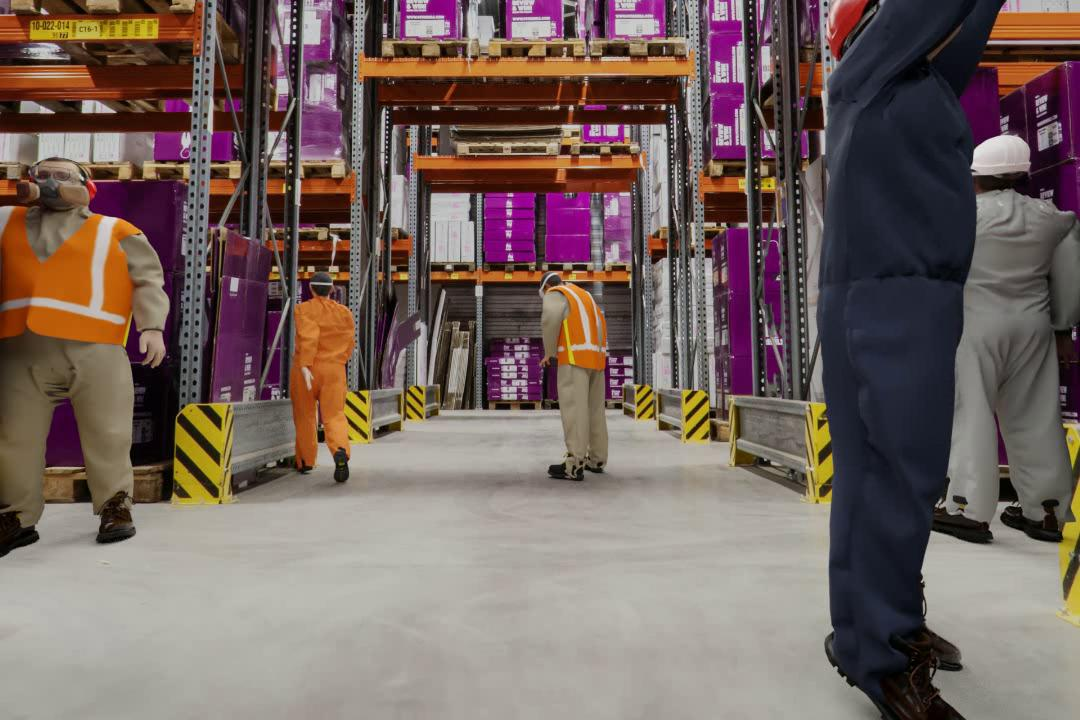Helmet: (961, 131, 1034, 175)
Jacket: (8, 199, 121, 344), (550, 283, 608, 361)
Shoes: (819, 621, 967, 720), (917, 598, 985, 674), (916, 497, 993, 543), (999, 498, 1064, 544), (91, 491, 135, 547), (0, 509, 40, 566), (548, 461, 584, 482), (332, 450, 352, 485), (585, 459, 604, 472), (297, 461, 313, 472)
